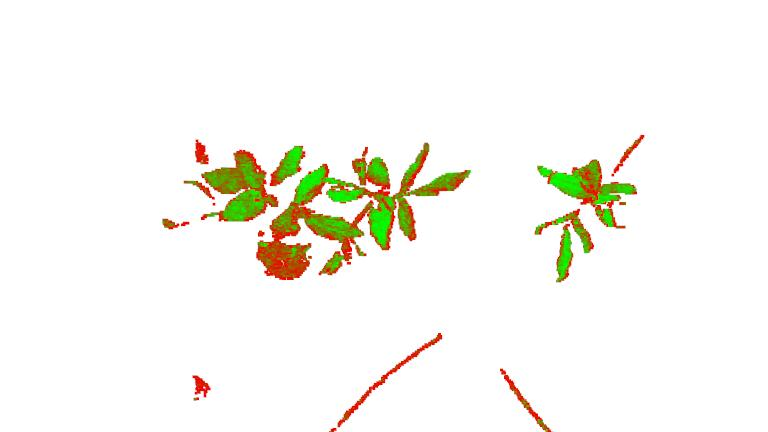mungbean: (325, 140, 475, 273), (199, 147, 363, 241), (530, 153, 641, 284)
